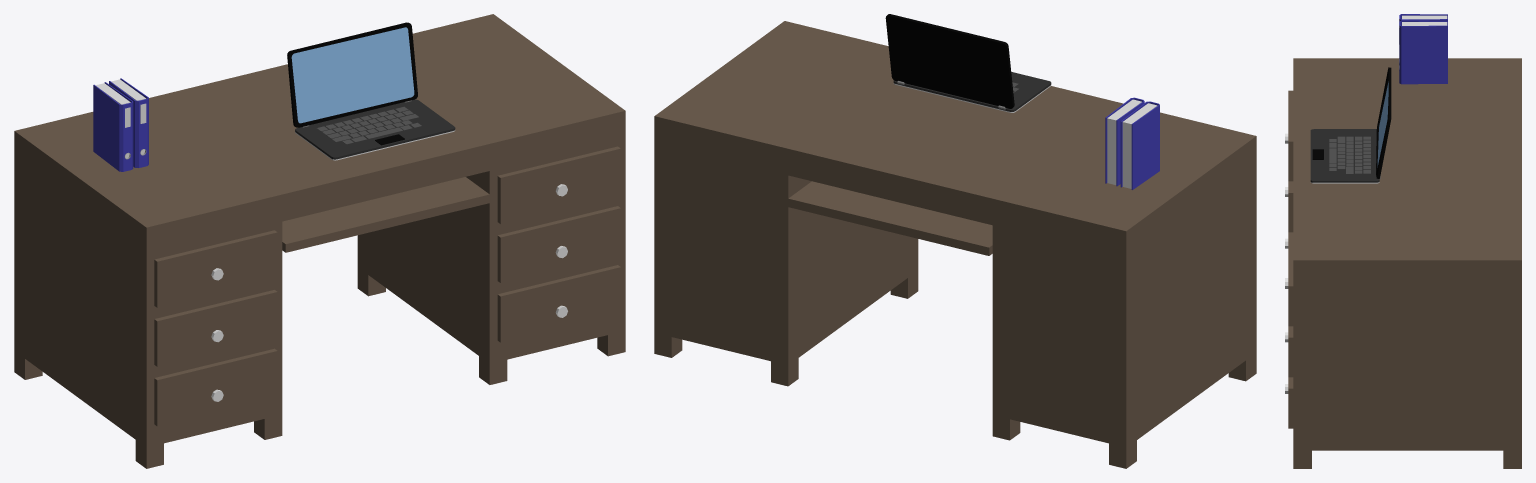
File: bureau 3.fbx
The picture shows the model from 3 angles, left to right: view 1: azimuth 30°, elevation 25°; view 2: azimuth 150°, elevation 25°; view 3: azimuth 270°, elevation 25°; orthographic projection. The views are drawn at different scales.
Parts seen in each view (by area): view 1: bureau_3; view 2: bureau_3; view 3: bureau_3.
Part boxes in pixels (<box>): bureau_3: <box>14,14,625,468</box>; bureau_3: <box>654,14,1256,468</box>; bureau_3: <box>1285,14,1521,468</box>.
Bounding box in the file's own units: 1.83 × 1.2 × 0.9085.
